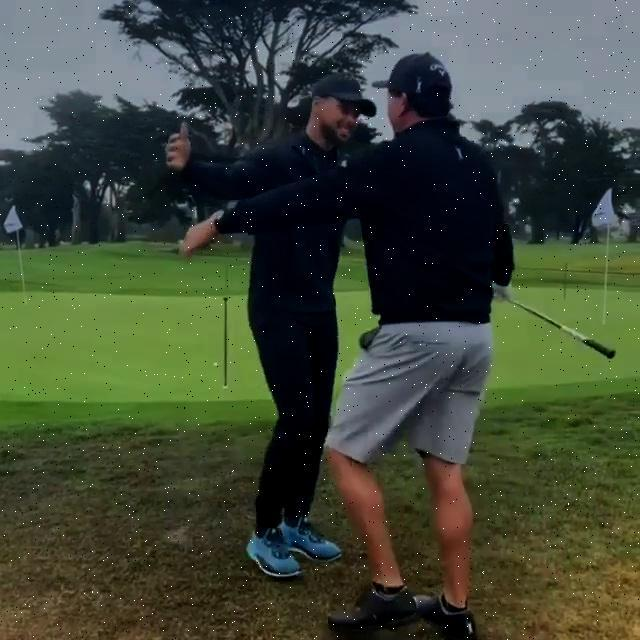golf club-handle: (489, 284, 613, 365)
